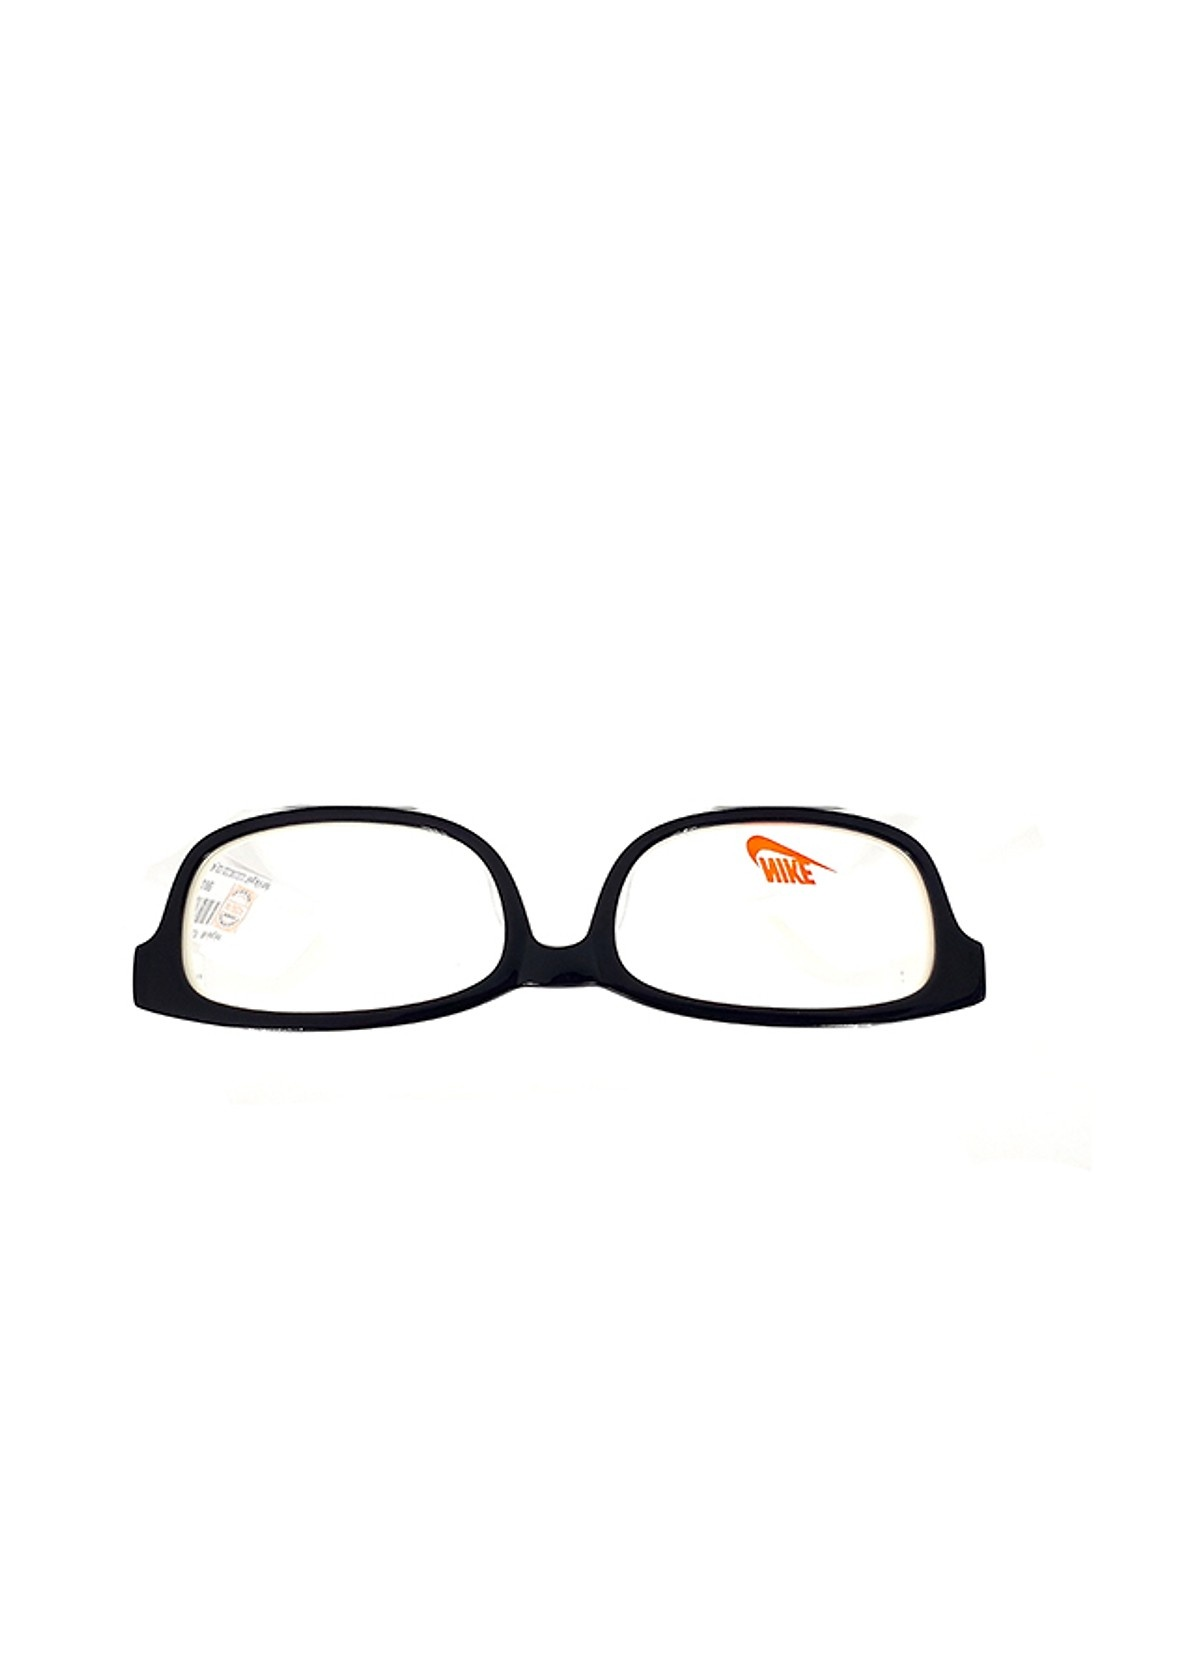Nike: (699, 782, 945, 962)
